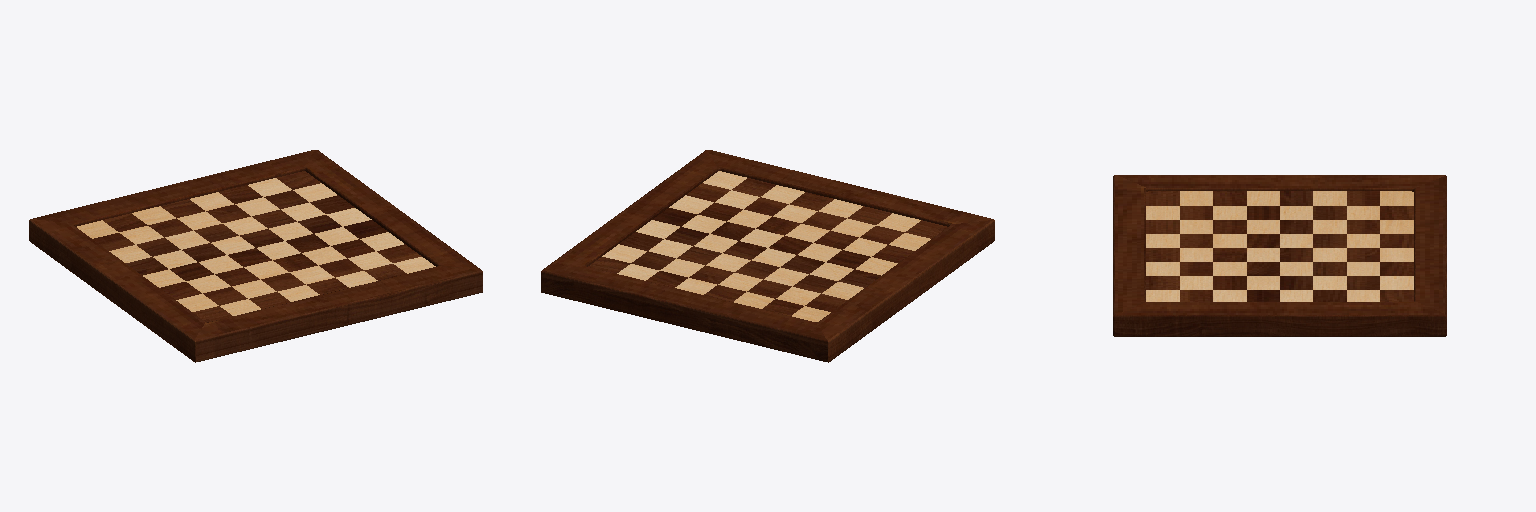
3 renders of one model, left to right at view 1: azimuth 30°, elevation 25°; view 2: azimuth 150°, elevation 25°; view 3: azimuth 270°, elevation 25°, orthographic.
Parts seen in each view (by area): view 1: polySurface43_blinn1_0, polySurface44_blinn2_0, polySurface44_blinn1_0; view 2: polySurface43_blinn1_0, polySurface44_blinn1_0, polySurface44_blinn2_0; view 3: polySurface43_blinn1_0, polySurface44_blinn1_0, polySurface44_blinn2_0.
Part boxes in pixels (x1,y1,x2,y2): polySurface43_blinn1_0: (29, 150, 482, 362); polySurface44_blinn2_0: (77, 178, 435, 315); polySurface44_blinn1_0: (93, 171, 421, 321); polySurface43_blinn1_0: (541, 150, 994, 362); polySurface44_blinn1_0: (588, 178, 946, 315); polySurface44_blinn2_0: (602, 171, 930, 321); polySurface43_blinn1_0: (1113, 175, 1446, 336); polySurface44_blinn1_0: (1146, 191, 1413, 301); polySurface44_blinn2_0: (1146, 191, 1413, 301).
Size of the model in its own units: 10.64 by 0.786 by 10.64.
Materials: 2 (2 with a texture image).